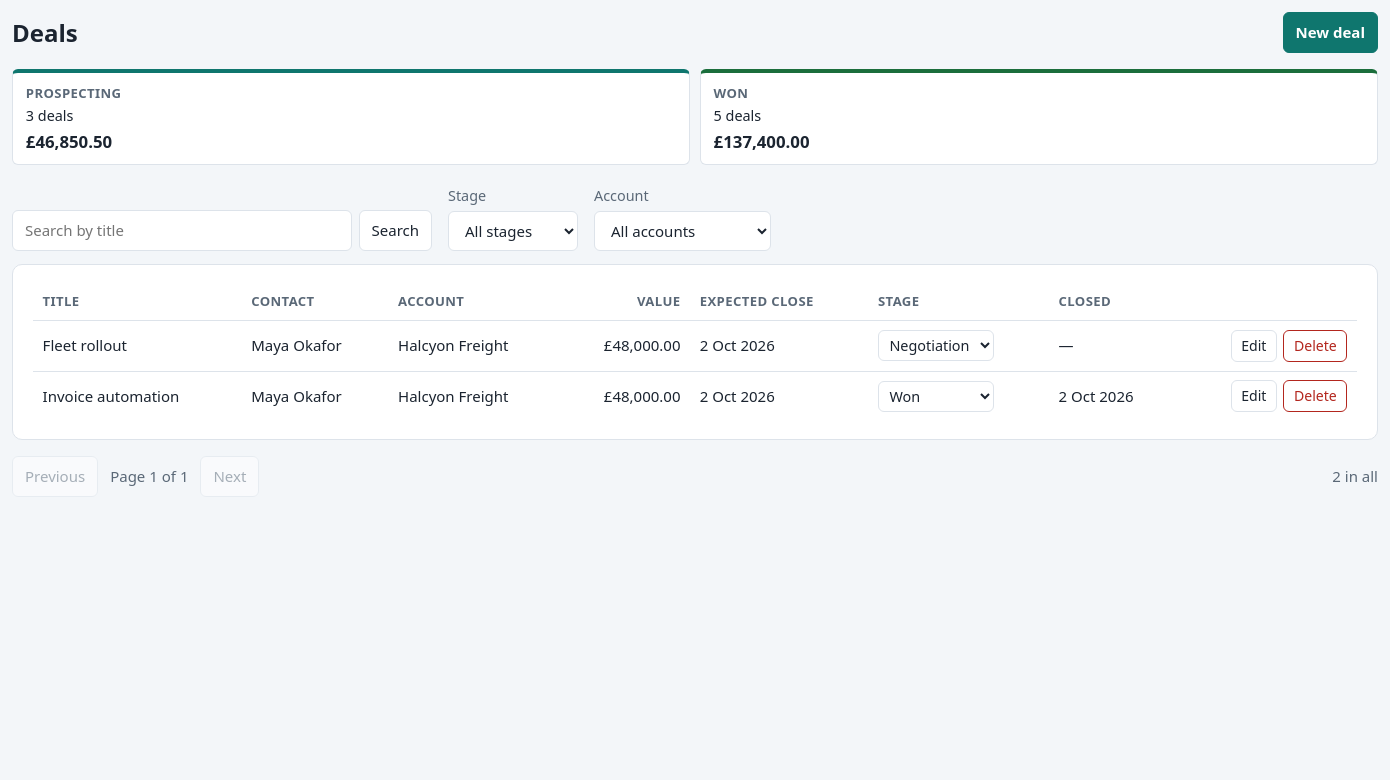
Scenario: DealsPage › changes the stage with a PUT of every field, then refreshes the list and the summary
Expected: the text "Fleet rollout" is shown, [33,321,242,371]
Select "Proposal" in the dropdown named "Stage of Fleet rollout" at (936, 346), box [878,330,994,361]
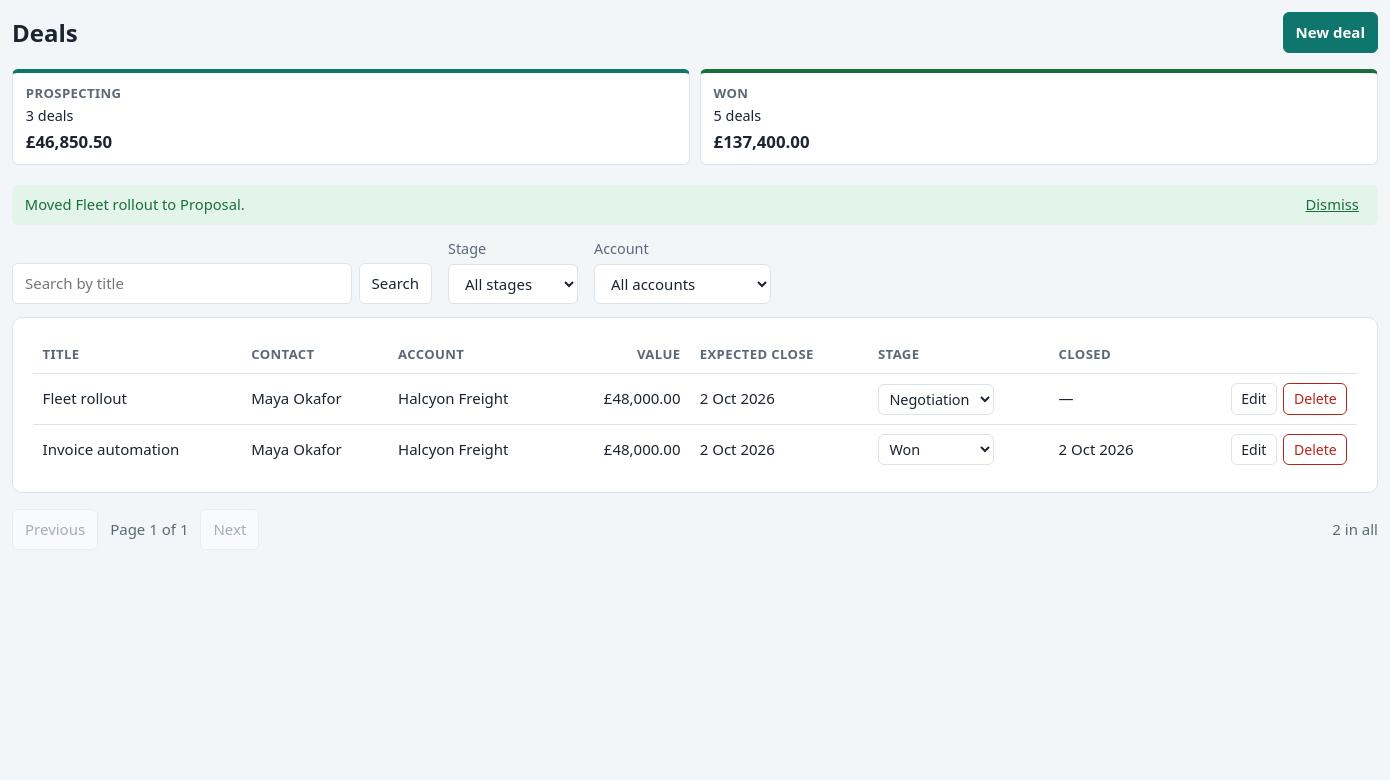
Result: the message shows "Moved Fleet rollout to Proposal." at [25,194,245,214]
